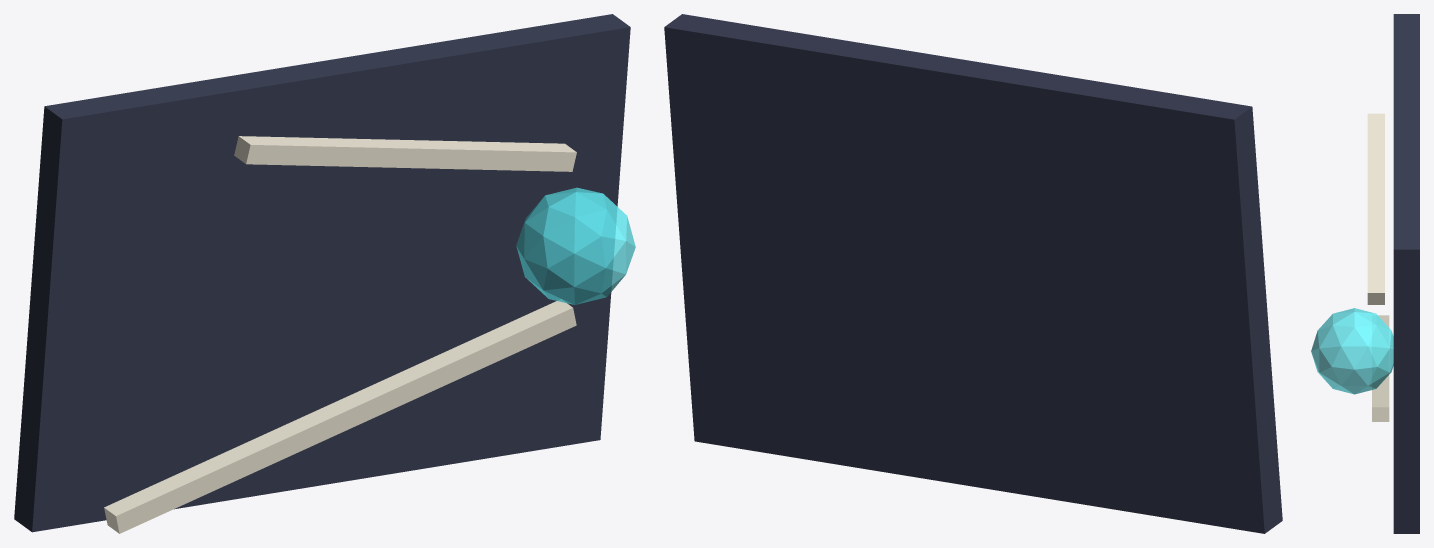
File: 02_world_prop_polish.glb
3 views of the same model, side by side, from view 1: azimuth 30°, elevation 25°; view 2: azimuth 150°, elevation 25°; view 3: azimuth 270°, elevation 25° (orthographic). The views are drawn at different scales.
Visible parts, largest first — view 1: object_overlay_plate, edge_wear_a, glow_socket, edge_wear_b; view 2: object_overlay_plate; view 3: object_overlay_plate, glow_socket, edge_wear_b, edge_wear_a.
Boxes of the visible parts, x1,y1,x2,y2 form: object_overlay_plate: [14, 14, 630, 532]; edge_wear_a: [104, 300, 576, 533]; glow_socket: [516, 187, 635, 304]; edge_wear_b: [234, 136, 576, 171]; object_overlay_plate: [664, 14, 1282, 533]; object_overlay_plate: [1393, 14, 1419, 533]; glow_socket: [1311, 308, 1393, 394]; edge_wear_b: [1367, 113, 1384, 304]; edge_wear_a: [1372, 315, 1389, 421].
Bounding box in the file's own units: 1.16 × 0.8333 × 0.25.
